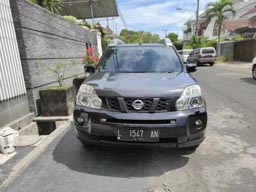plat: (116, 128, 161, 137)
